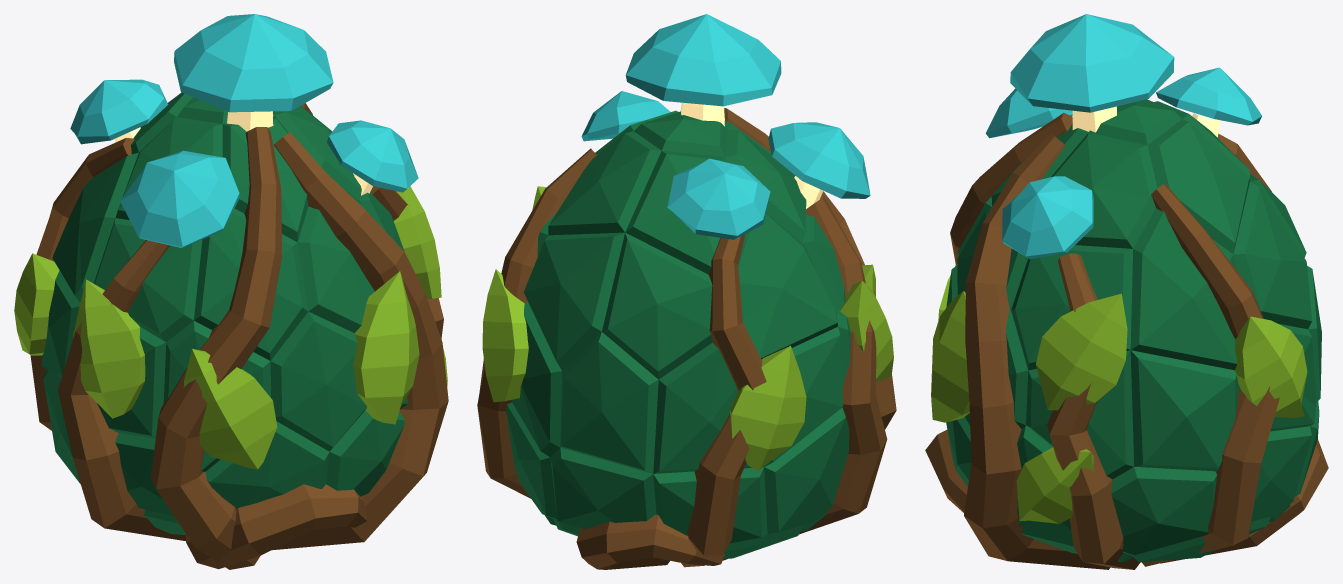
The model's file is mosswood_egg.glb.
The picture shows the model from 3 angles, left to right: view 1: azimuth 30°, elevation 25°; view 2: azimuth 150°, elevation 25°; view 3: azimuth 270°, elevation 25°; orthographic projection. The views are drawn at different scales.
Parts seen in each view (by area): view 1: egg; view 2: egg; view 3: egg.
Boxes of the visible parts, x1,y1,x2,y2 form: egg: (14, 14, 448, 569); egg: (477, 14, 896, 569); egg: (925, 14, 1328, 569).
Size of the model in its own units: 1.81 by 2.57 by 1.72.
